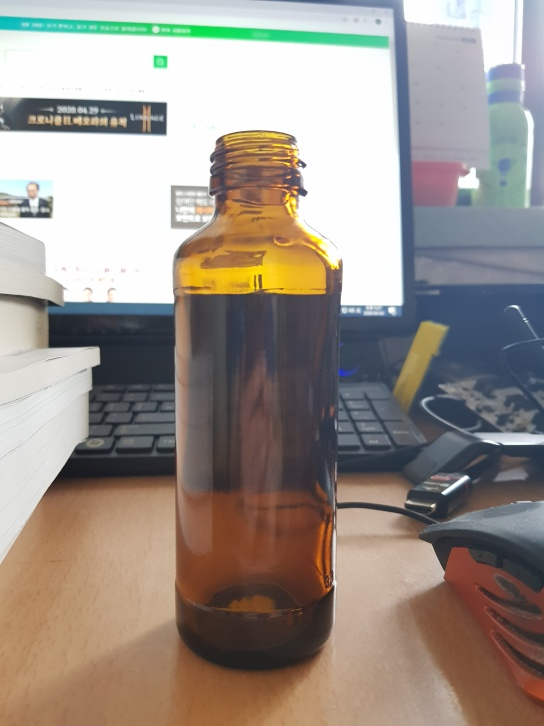Glass: (172, 131, 344, 665)
